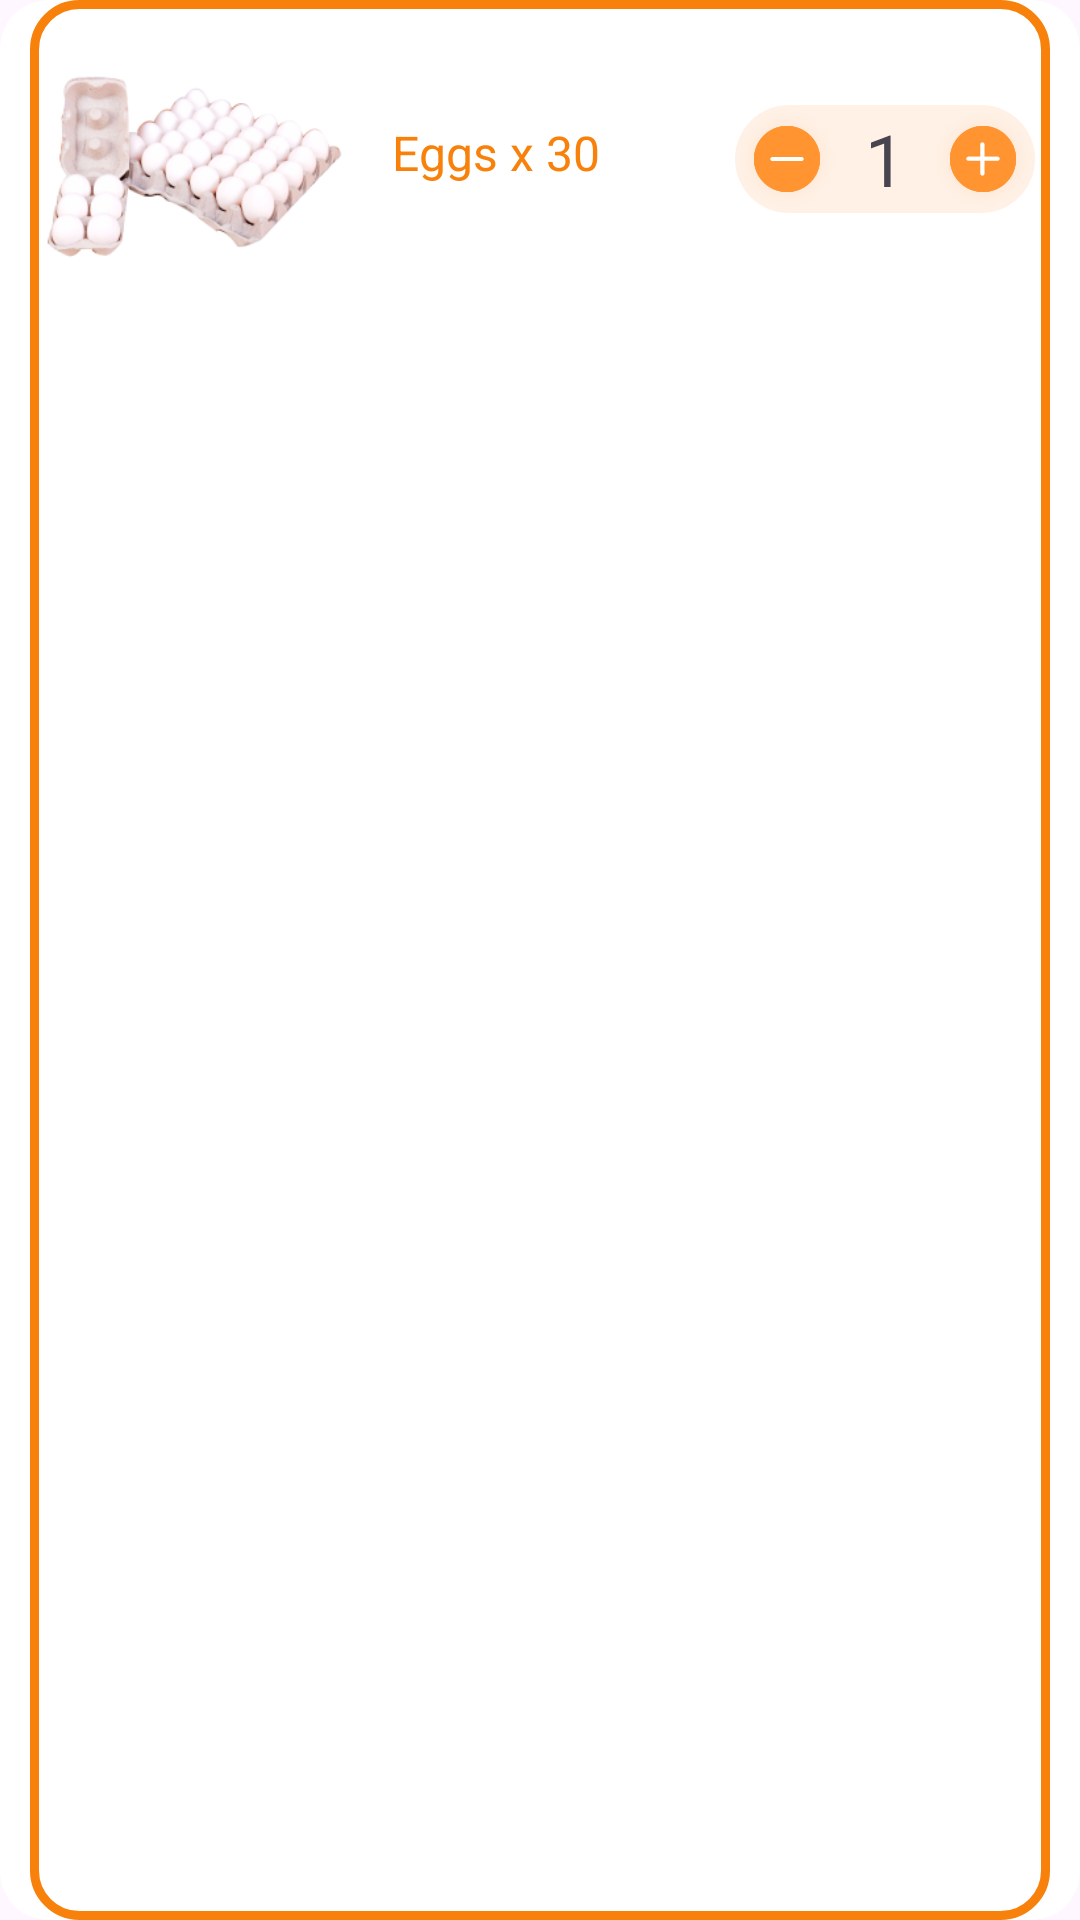

Screen size 1080px x 1920px. Icon name, then its box in pixels as BBox(x1, y1, x2, y2):
plus: BBox(929, 105, 1035, 213)
Product Image: BBox(47, 77, 341, 257)
